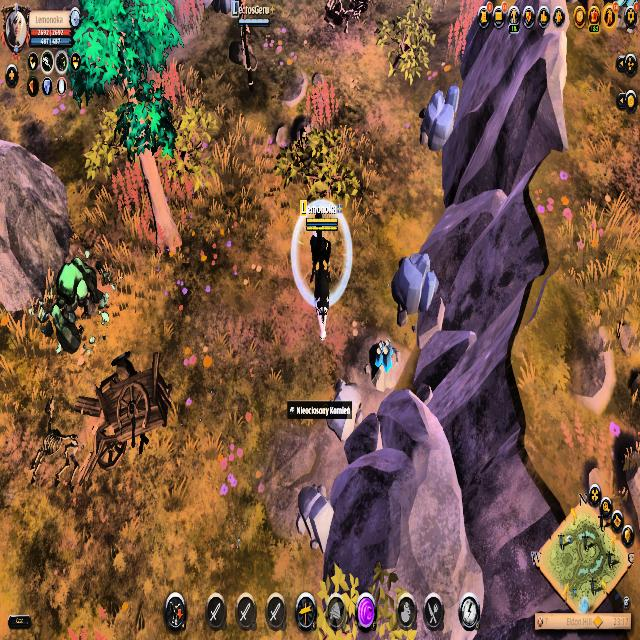ore tier 4: (366, 339, 401, 393)
rock tier 1: (296, 481, 336, 555), (327, 378, 363, 440)
rock tier 4: (393, 251, 441, 327), (416, 85, 461, 152)
